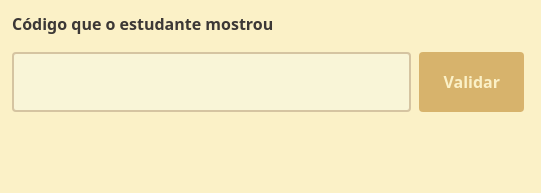
Test case: ValidarCupom › normaliza e valida o código
Type " uni-abc " into the field labelled "Código que o estudante mostrou". click: (212, 82)
box: [12,52,411,112]
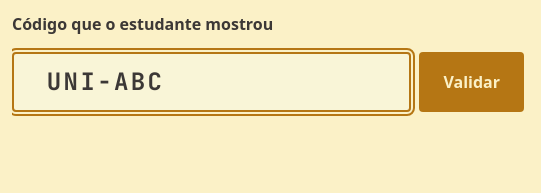
Click the button "Validar". click: click(472, 82)
box: [419,52,524,112]
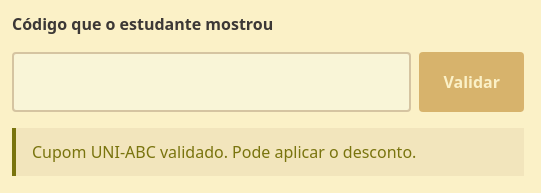
Result: the message shows "validado" at [32,141,416,163]
